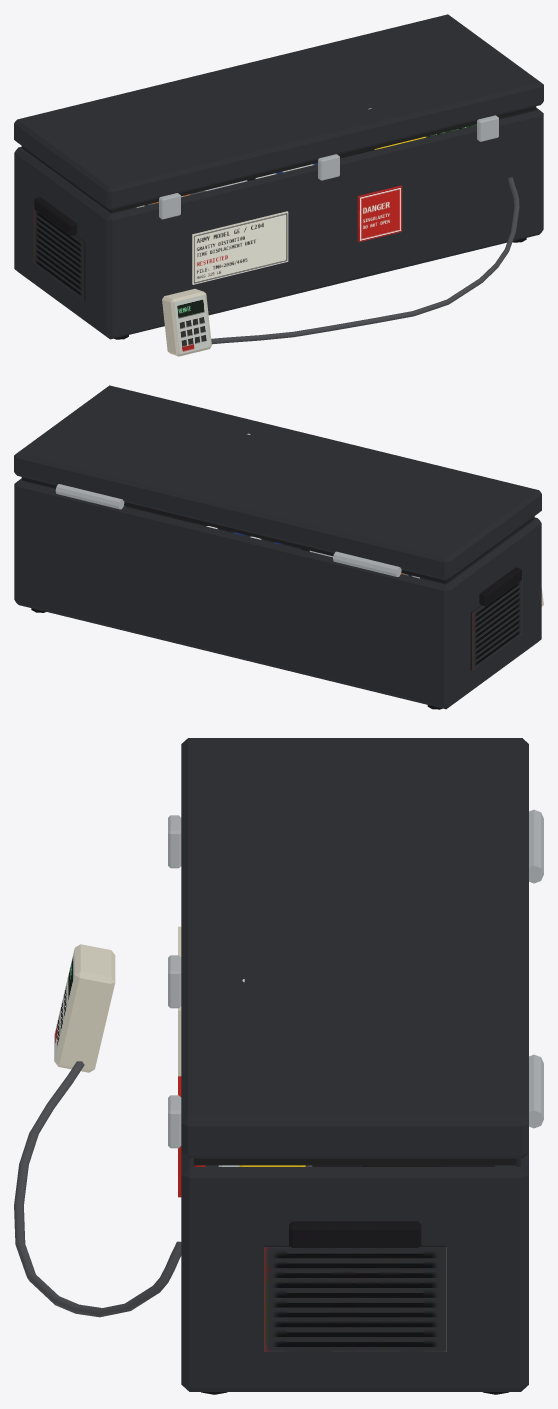
The model's file is c204_static_preview.glb.
3 views of the same model, one above another, from view 1: azimuth 30°, elevation 25°; view 2: azimuth 150°, elevation 25°; view 3: azimuth 270°, elevation 25° (orthographic). The views are drawn at different scales.
Parts seen in each view (by area): view 1: housing, lid, housing_id_plate, housing_xray_vent_L, remote_control_unit, cable_remote, housing_warning_plate, housing_deck, housing_handle_01, housing_latch_01, housing_latch_02, housing_latch_03; view 2: housing, lid, housing_xray_vent_L, housing_deck, housing_hinge_01, housing_hinge_02, housing_handle_01; view 3: lid, housing, housing_xray_vent_R, remote_control_unit, cable_remote, housing_handle_02, housing_deck, housing_hinge_01, housing_hinge_02.
Part boxes in pixels (<box>): housing: <box>14,108,543,339</box>; lid: <box>14,14,543,209</box>; housing_id_plate: <box>192,211,288,284</box>; housing_xray_vent_L: <box>33,205,85,300</box>; remote_control_unit: <box>162,288,211,356</box>; cable_remote: <box>211,177,519,344</box>; housing_warning_plate: <box>357,185,402,242</box>; housing_deck: <box>21,106,536,213</box>; housing_handle_01: <box>34,197,76,235</box>; housing_latch_01: <box>159,193,180,219</box>; housing_latch_02: <box>318,154,339,180</box>; housing_latch_03: <box>477,115,498,141</box>; housing: <box>14,478,541,709</box>; lid: <box>14,385,541,580</box>; housing_xray_vent_L: <box>470,576,522,670</box>; housing_deck: <box>21,477,534,583</box>; housing_hinge_01: <box>333,551,401,576</box>; housing_hinge_02: <box>55,484,124,509</box>; housing_handle_01: <box>479,567,521,606</box>; lid: <box>181,738,528,1158</box>; housing: <box>181,1153,528,1391</box>; housing_xray_vent_R: <box>264,1245,446,1351</box>; remote_control_unit: <box>54,944,115,1072</box>; cable_remote: <box>14,1061,181,1317</box>; housing_handle_02: <box>289,1221,421,1247</box>; housing_deck: <box>193,1158,516,1165</box>; housing_hinge_01: <box>529,809,543,883</box>; housing_hinge_02: <box>529,1054,543,1128</box>.
Size of the model in its own units: 1.14 by 0.3802 by 0.6401.
Materials: 4 (1 with a texture image).
